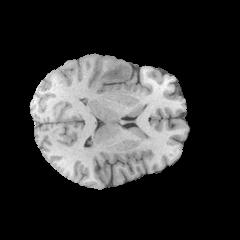glioma: (88, 62, 130, 116)
